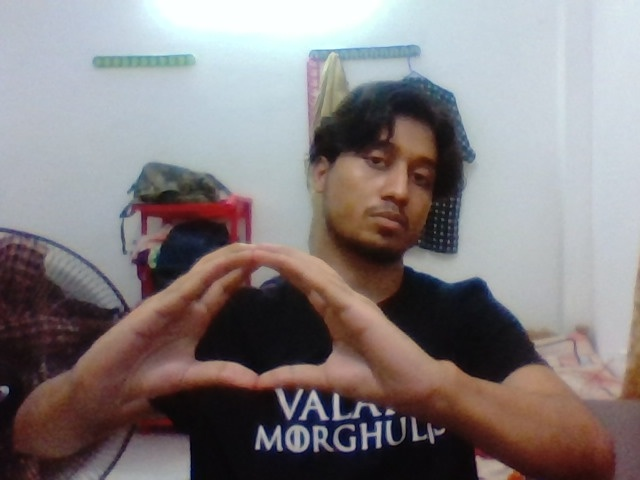O: (148, 223, 383, 412)
